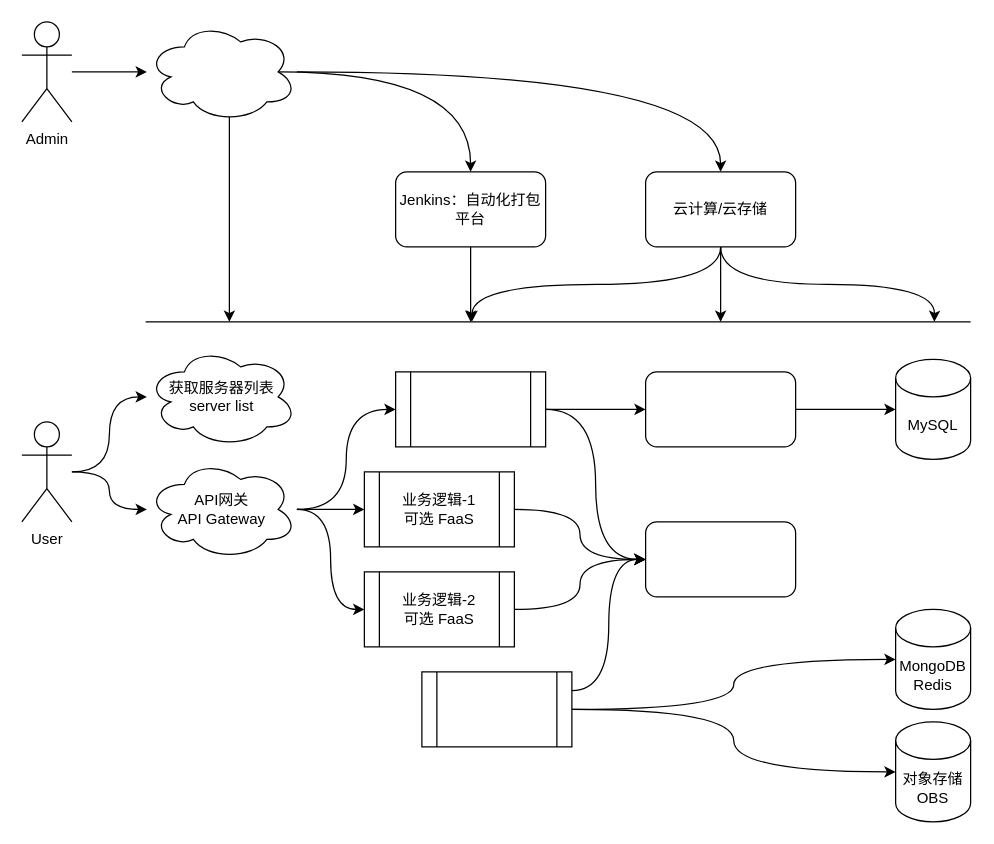
Some shapes in this 994 by 844 pixel diagram are drawn without their labels. Here are the shapes that lost their labels. From the top down, the centre of each, then its label:
point (221, 71): 管理后台 DevOps
point (470, 409): 用户管理 登陆注册、鉴权
point (720, 409): Keycloak：用户身份管理、权限控制
point (720, 559): Nacos Dubbo/gRPC
point (496, 709): 数据访问层 DAO
